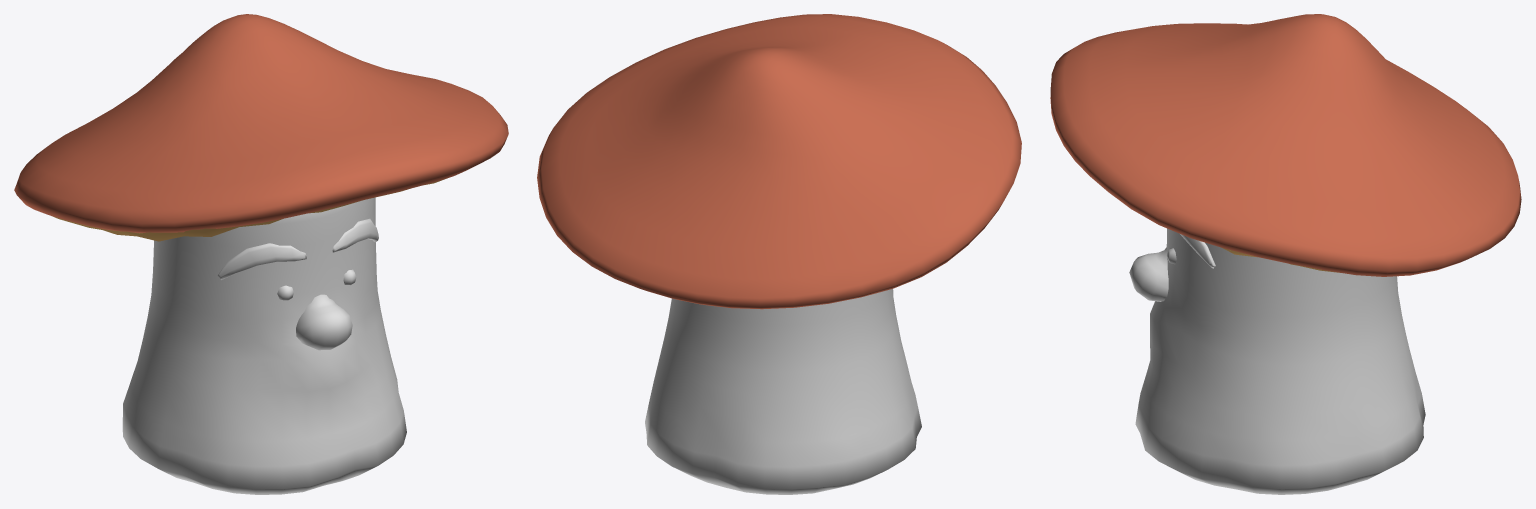
The model's file is SM_Mushroom03_low_02 (1).fbx.
The picture shows the model from 3 angles, left to right: view 1: azimuth 30°, elevation 25°; view 2: azimuth 150°, elevation 25°; view 3: azimuth 270°, elevation 25°; orthographic projection. The views are drawn at different scales.
Visible parts, largest first — view 1: Hat_low, Stem_low, Nose_low, Eyebrow_low; view 2: Hat_low, Stem_low; view 3: Hat_low, Stem_low, Nose_low.
Part boxes in pixels (x1,y1,x2,y2): Hat_low: [14, 14, 508, 241]; Stem_low: [122, 197, 406, 494]; Nose_low: [296, 294, 352, 350]; Eyebrow_low: [217, 218, 378, 279]; Hat_low: [537, 14, 1021, 309]; Stem_low: [645, 289, 921, 494]; Hat_low: [1050, 14, 1521, 276]; Stem_low: [1135, 228, 1425, 494]; Nose_low: [1129, 247, 1168, 301].
Bounding box in the file's own units: 459 × 423 × 419.
